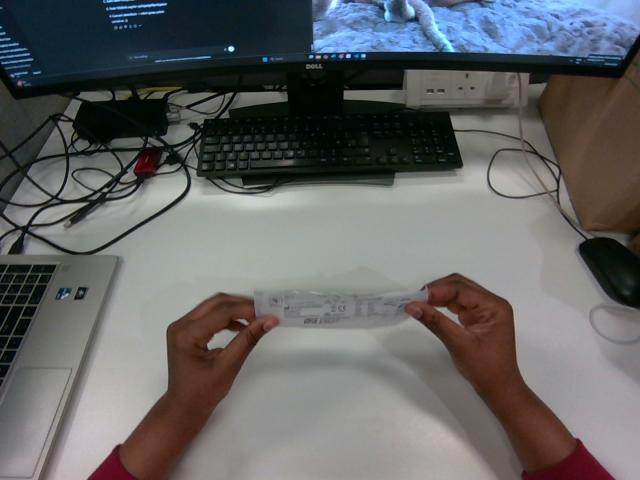syringe: (254, 290, 427, 328)
